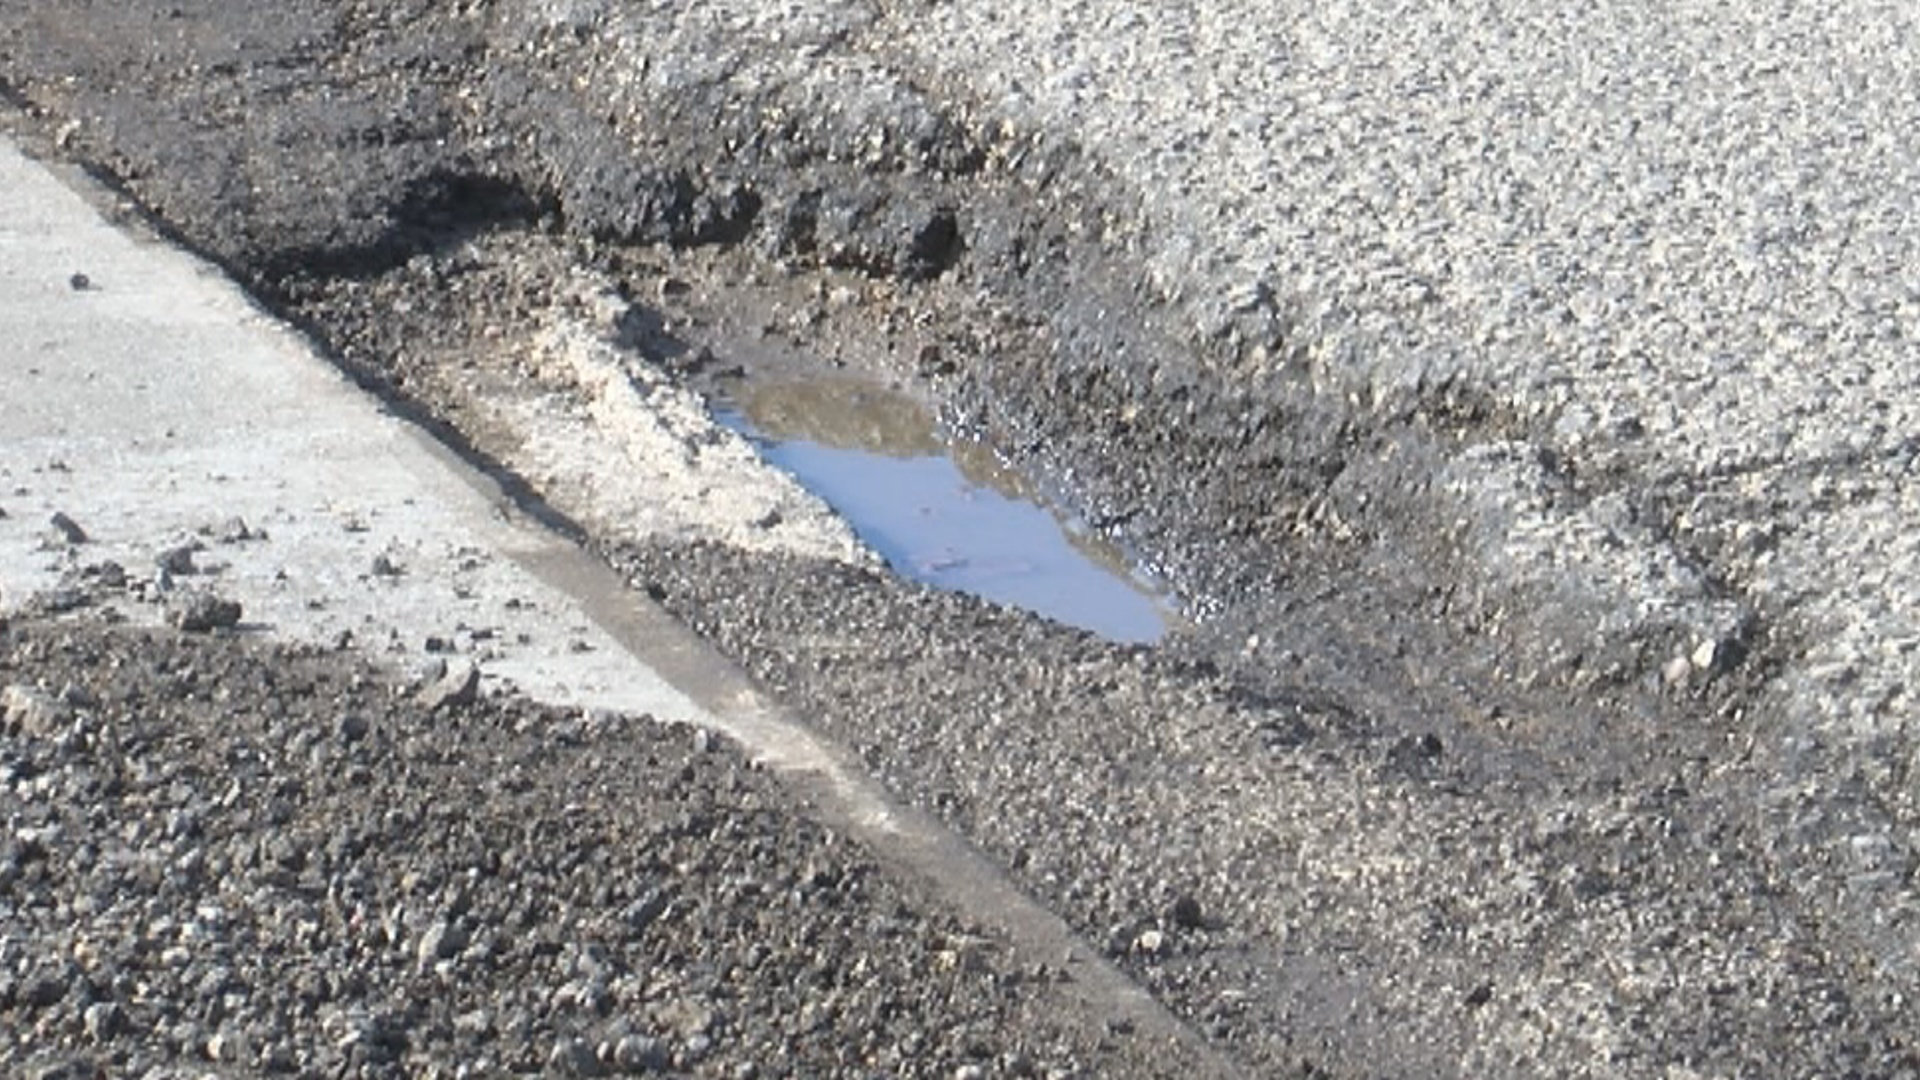pothole: (690, 206, 1265, 709)
